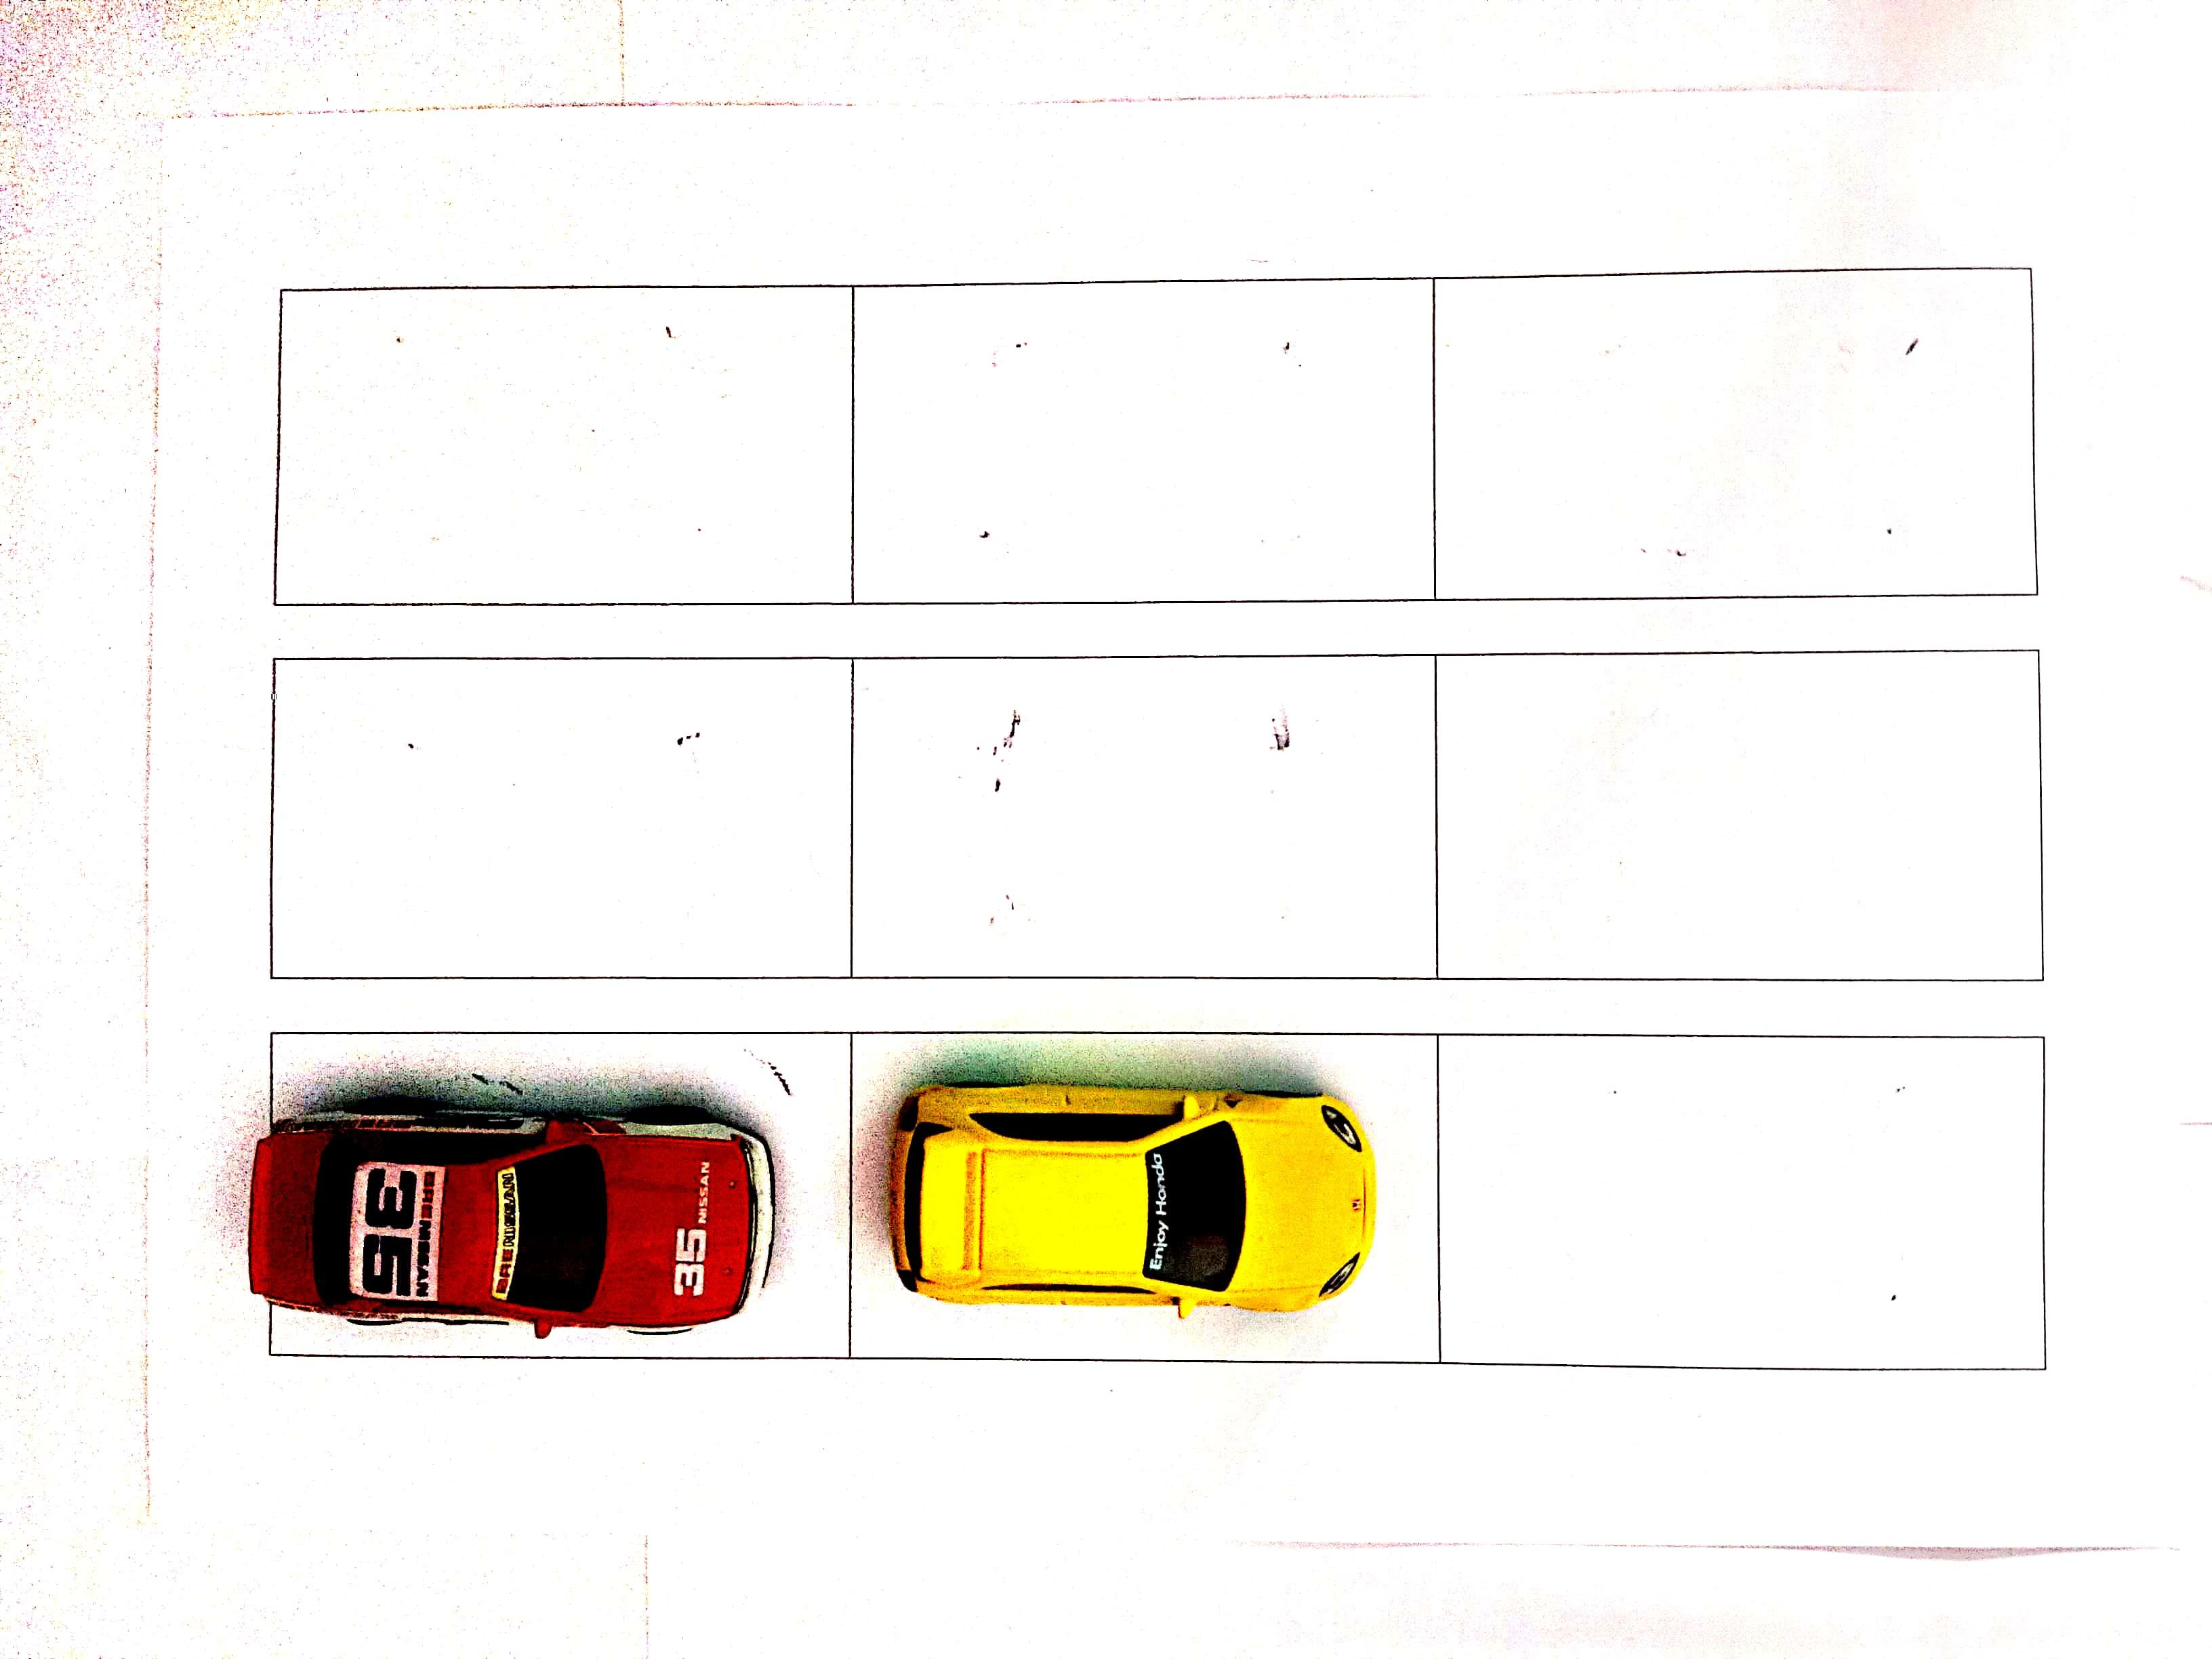Busy: (265, 1035, 845, 1363), (852, 1037, 1437, 1354)
Free: (1440, 645, 2033, 979), (1437, 267, 2029, 598), (1437, 1040, 2038, 1363), (273, 657, 852, 979), (273, 289, 848, 610), (852, 650, 1432, 967), (857, 281, 1433, 598)
